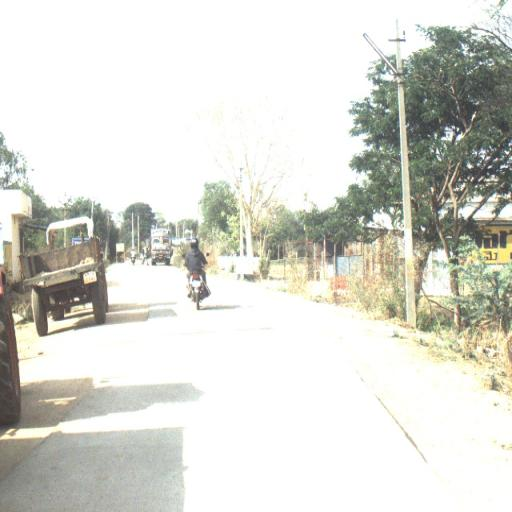street_light_0: (363, 32, 409, 85)
